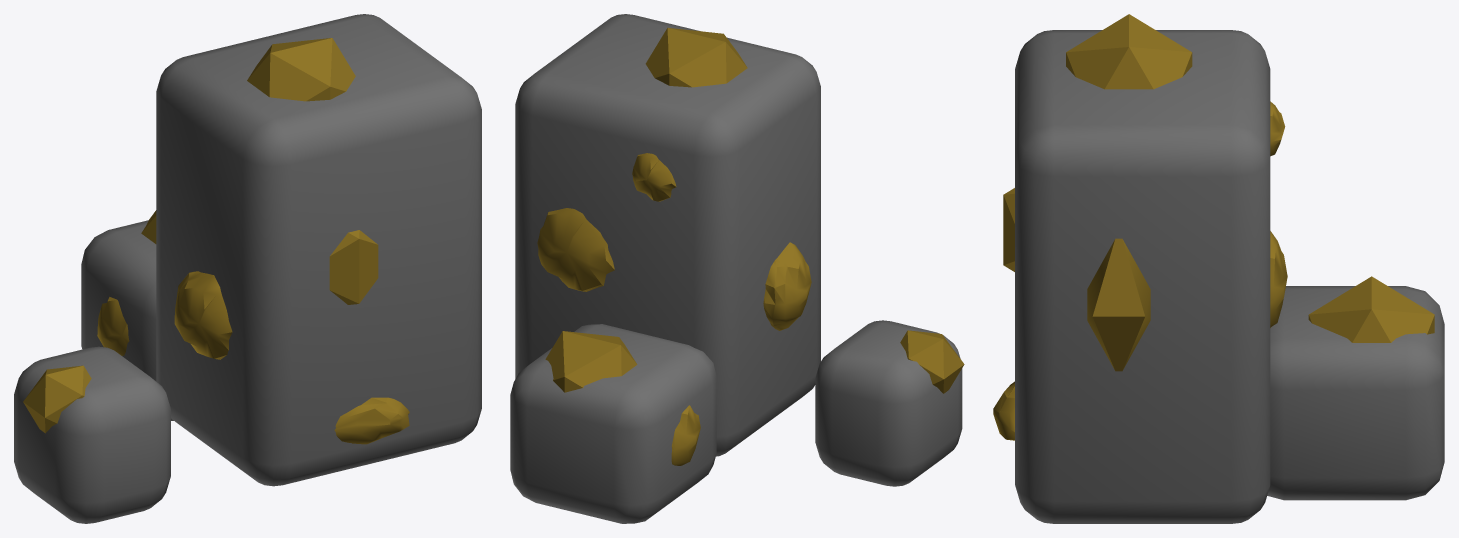
Rendered from copperOre.fbx.
3 views of the same model, side by side, from view 1: azimuth 30°, elevation 25°; view 2: azimuth 150°, elevation 25°; view 3: azimuth 270°, elevation 25° (orthographic). The views are drawn at different scales.
Parts seen in each view (by area): view 1: Stone, Stone_3, Ore, Stone_2; view 2: Stone, Stone_2, Ore, Stone_3; view 3: Stone, Stone_2, Ore.
Part boxes in pixels (<box>): Stone: <box>156,14,481,486</box>; Stone_3: <box>14,346,170,523</box>; Ore: <box>23,38,409,444</box>; Stone_2: <box>81,220,173,420</box>; Stone: <box>515,14,820,456</box>; Stone_2: <box>510,324,716,523</box>; Ore: <box>537,27,964,465</box>; Stone_3: <box>815,320,962,486</box>; Stone: <box>1015,30,1270,523</box>; Stone_2: <box>1267,286,1444,500</box>; Ore: <box>993,14,1434,440</box>.
Bounding box in the file's own units: 69.93 × 63.36 × 57.93.
